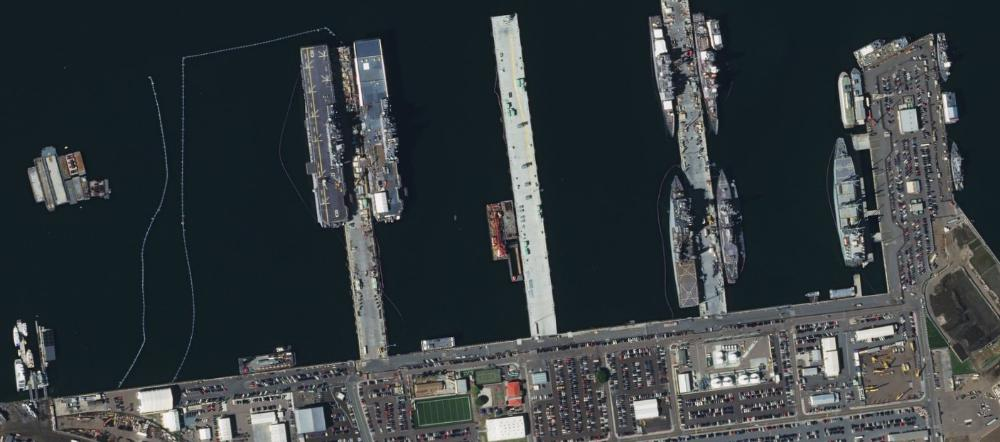amphiby: (661, 177, 703, 313)
fregate: (690, 11, 726, 135), (648, 12, 682, 138), (715, 167, 742, 285)
pha: (350, 40, 414, 229), (293, 45, 351, 227)
tender: (832, 139, 871, 272)
